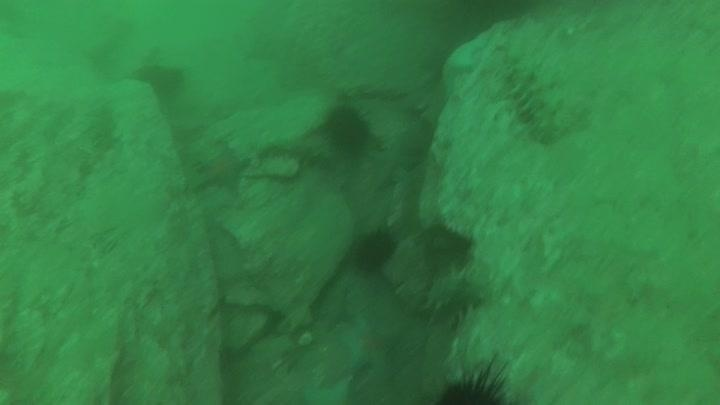echinus: (431, 353, 521, 404), (321, 102, 375, 158), (349, 226, 399, 275), (133, 61, 188, 101)
holothurian: (498, 41, 567, 146), (418, 264, 490, 324), (255, 133, 337, 169)
starfish: (335, 313, 401, 378), (193, 140, 252, 196), (299, 374, 357, 404)
